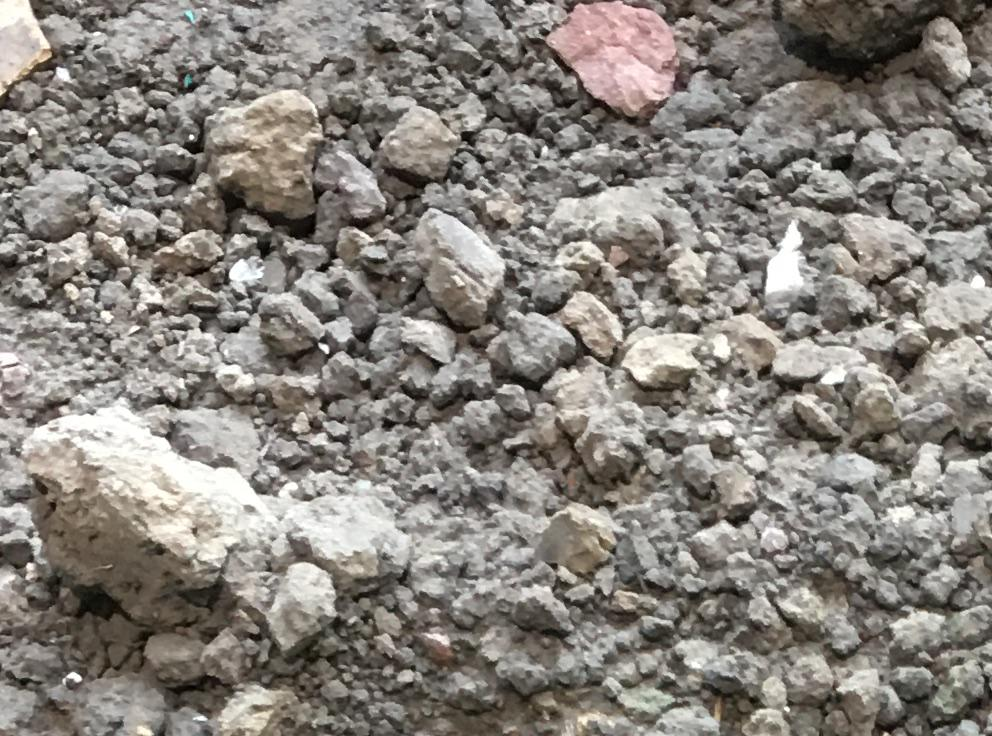block: (13, 414, 257, 625), (197, 89, 320, 224)
